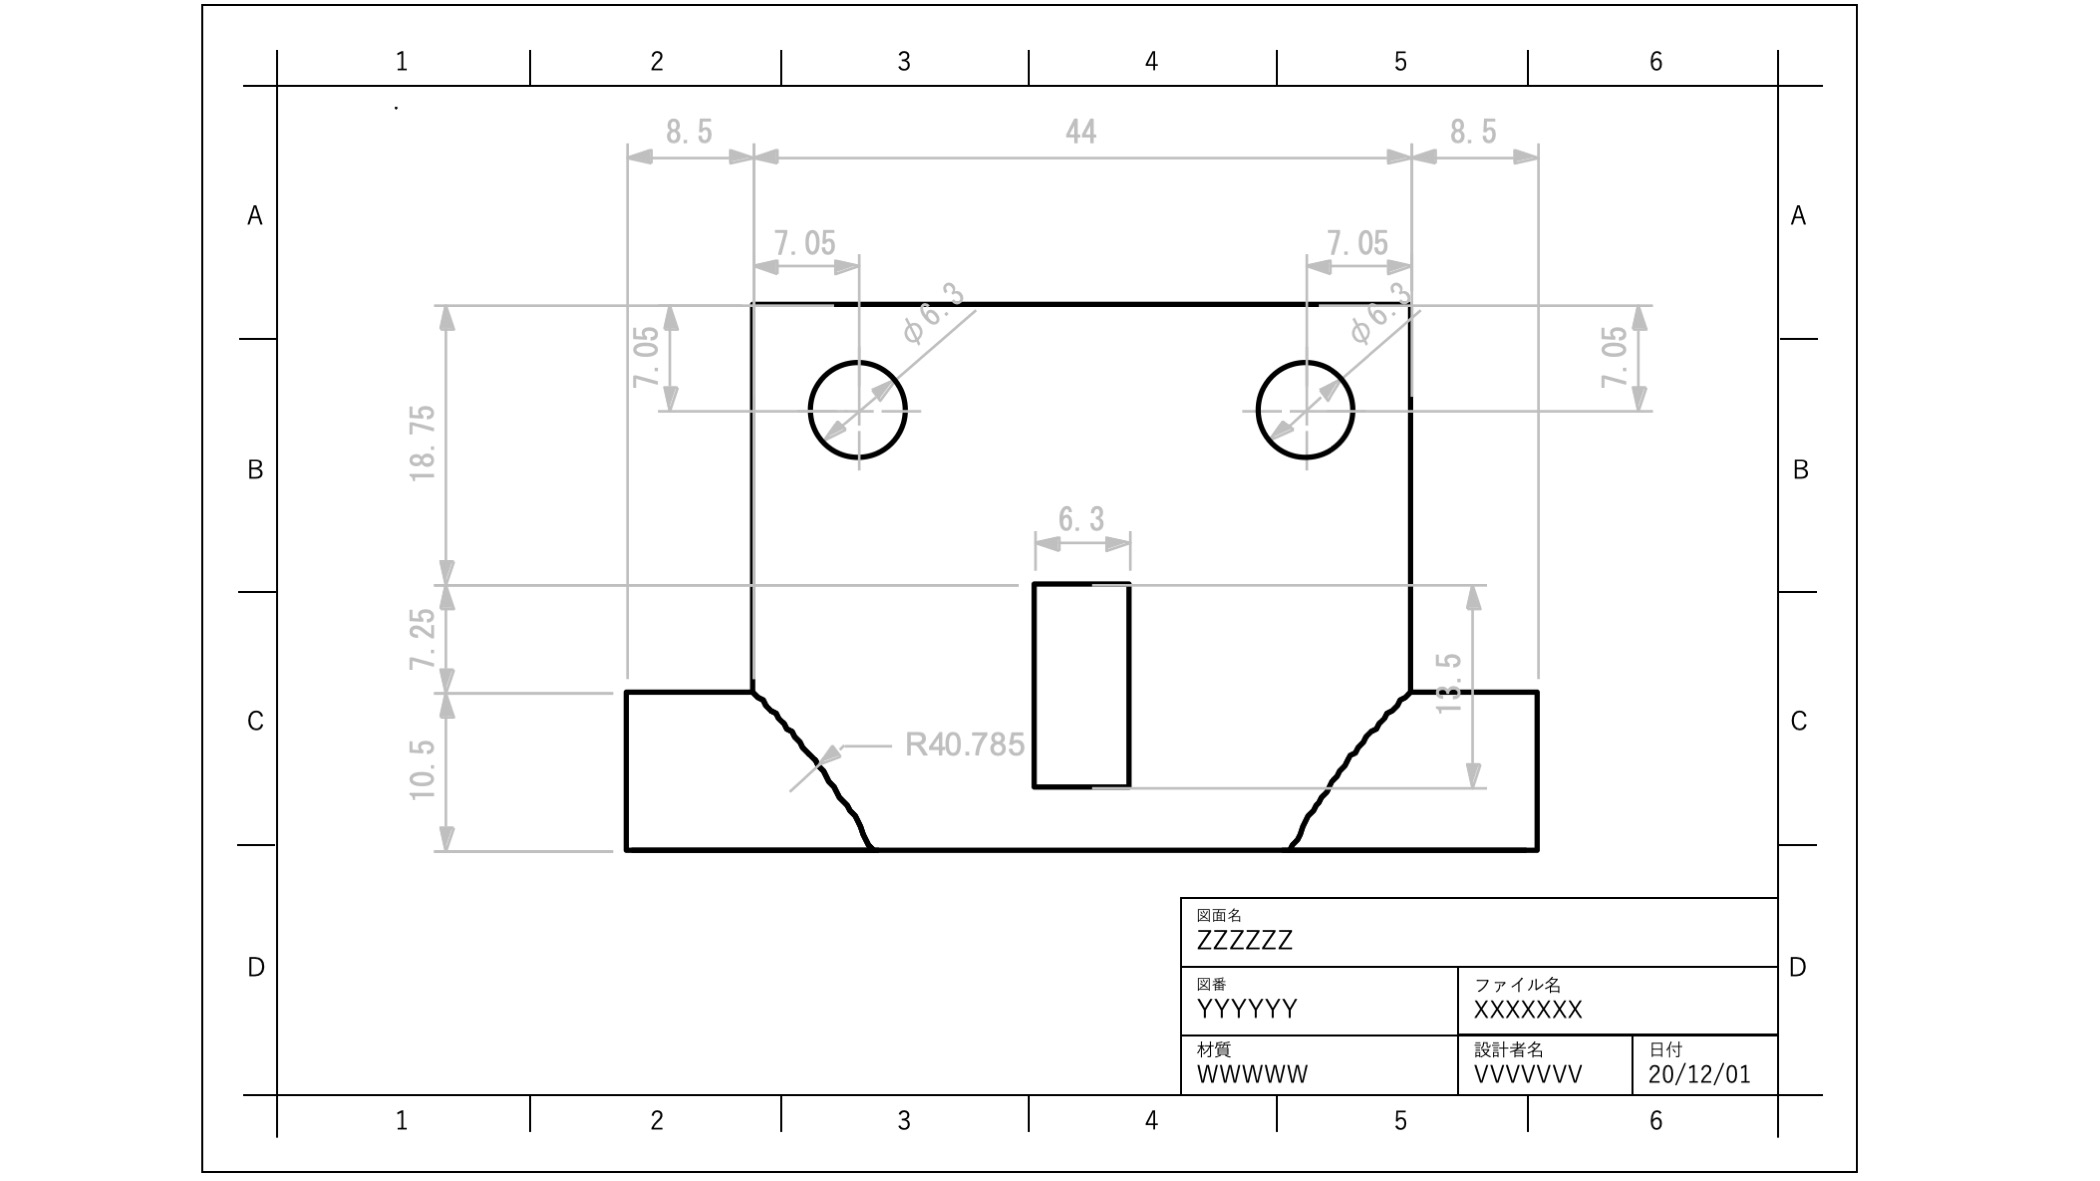circle: (1237, 350, 1363, 470), (800, 358, 927, 463)
rectangle: (1020, 567, 1145, 797)
